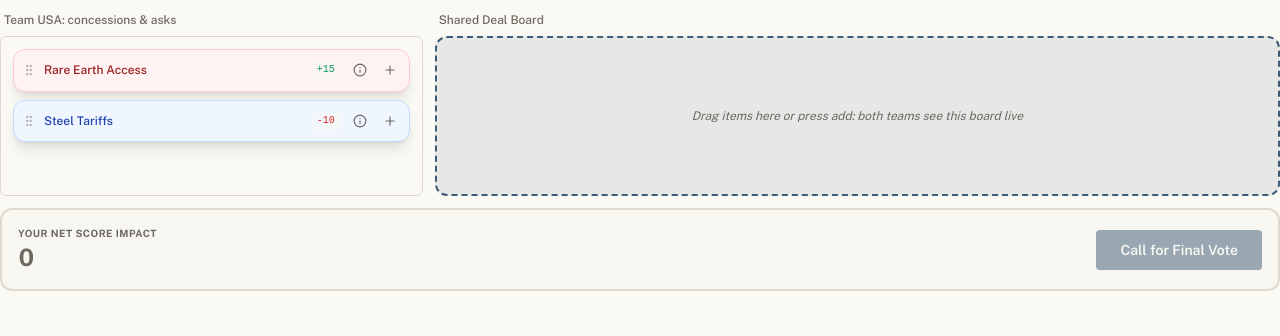
Test: SharedDealBoard optimistic adds › rolls the item back to the inventory and surfaces the error when the add fails
The width and height of the screenshot is (1280, 336).
Step 1. Click the button named "add steel tariffs" → (390, 121), box x1=379 y1=110 x2=401 y2=132
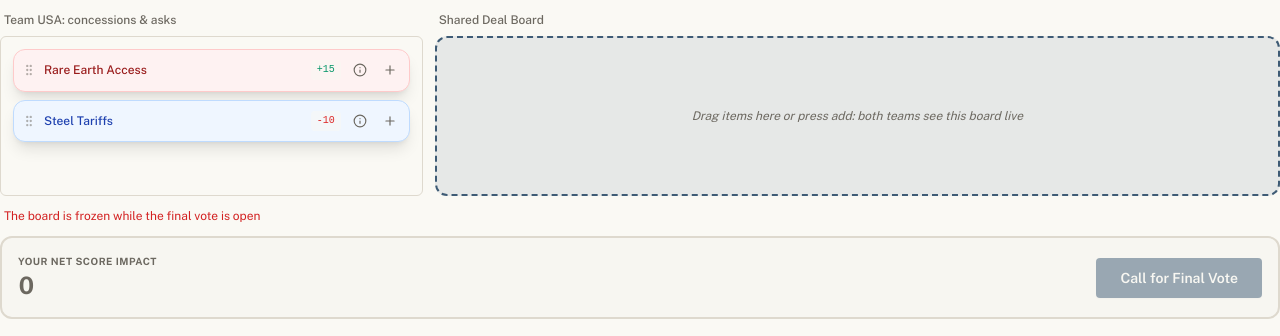
Expected: the text "Drag items here or press add: both teams see this board live" is shown, x1=692 y1=109 x2=1023 y2=123
Now the text "The board is frozen while the final vote is open" is shown, box x1=4 y1=209 x2=260 y2=223
